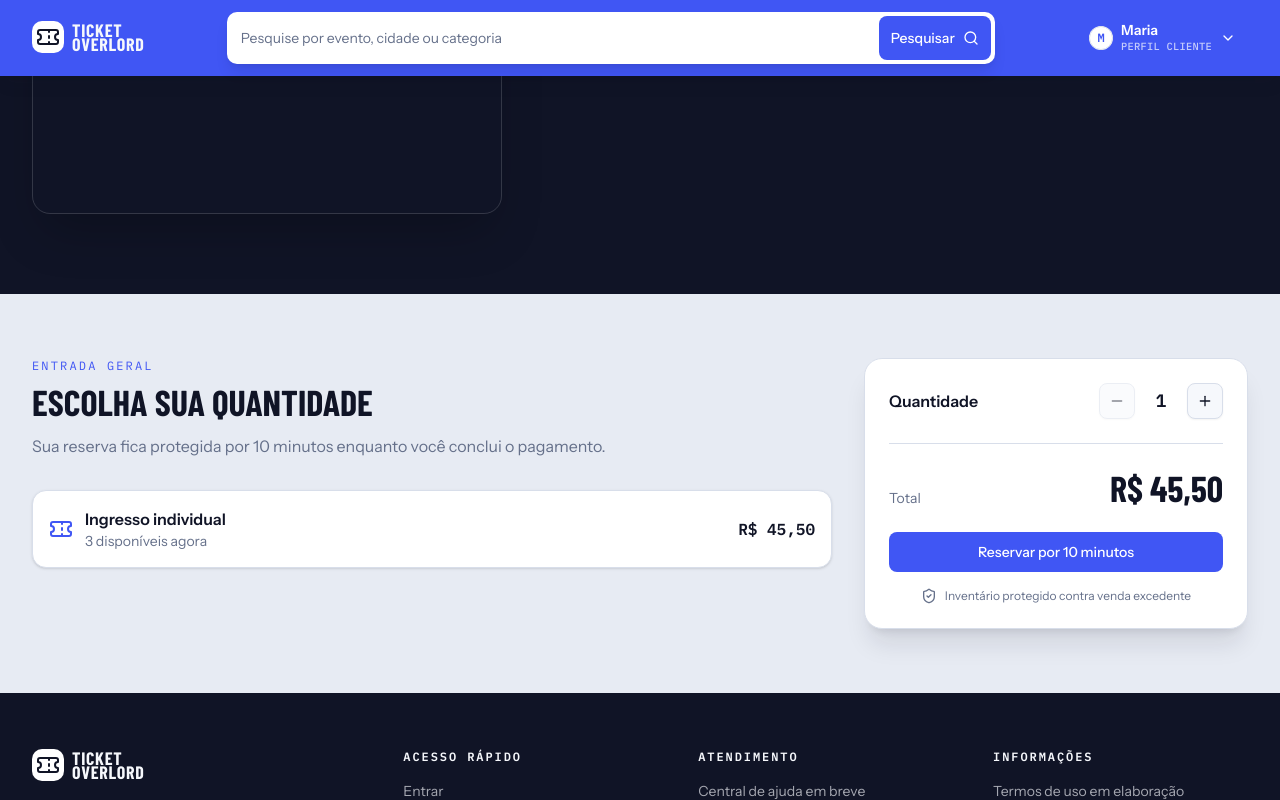
Test: EventDetailExperience › calculates the quantity total and respects current availability
(page scrolled)
Click the button named "Aumentar quantidade" at (1205, 401), box [1187,383,1223,419]
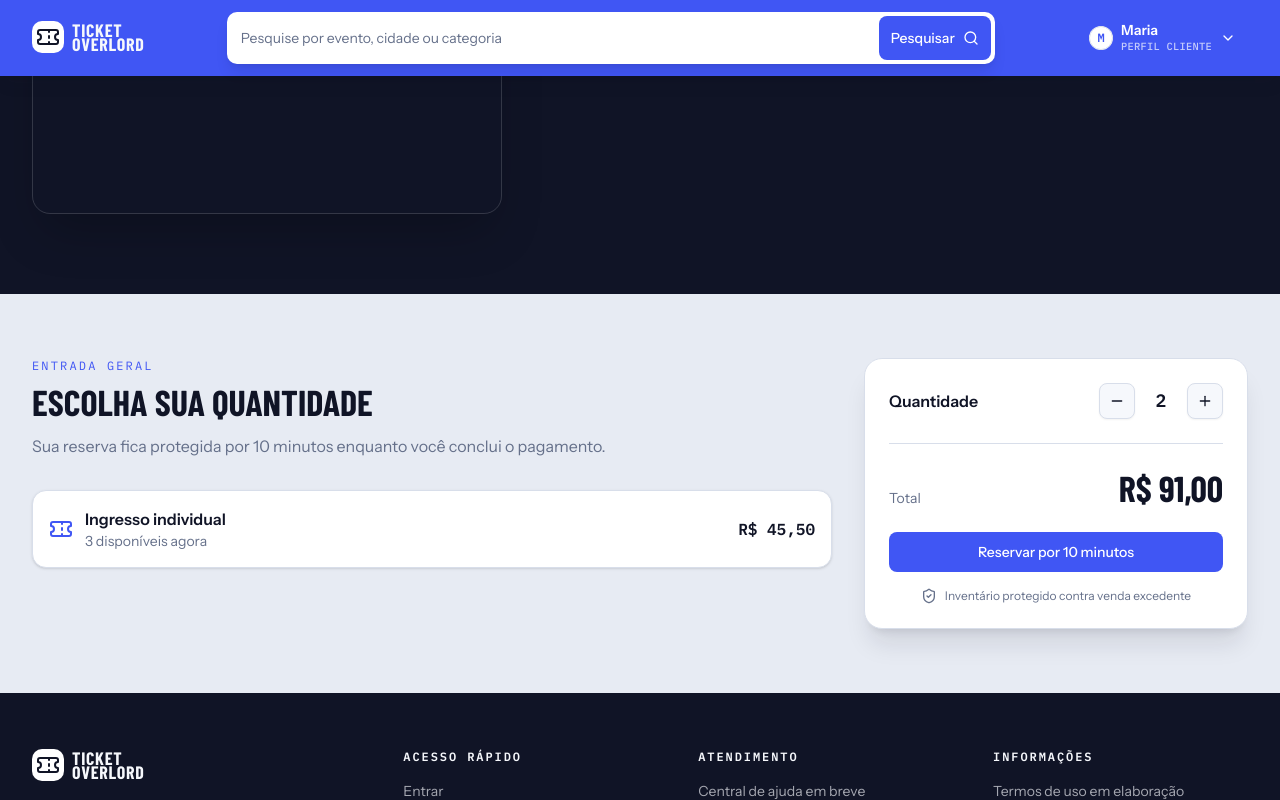
Click the button named "Aumentar quantidade" at (1205, 401), box [1187,383,1223,419]
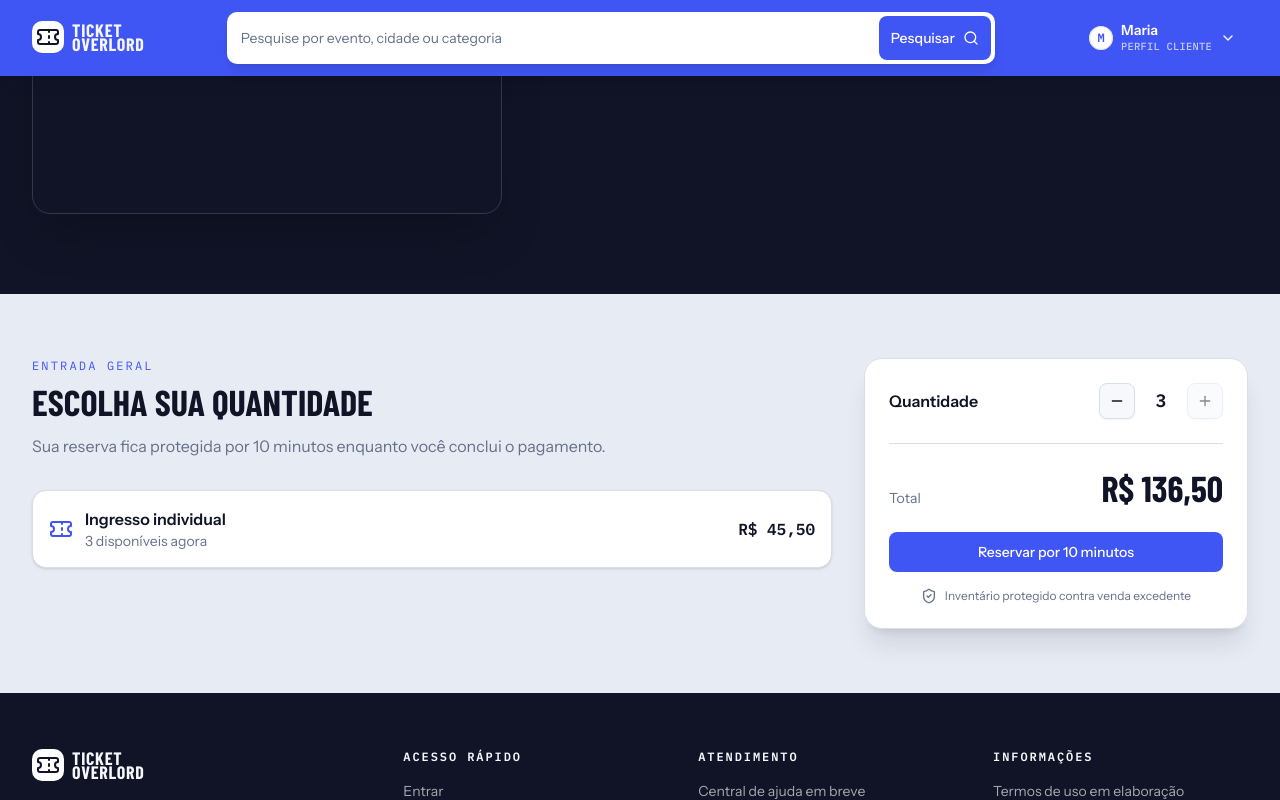
Check: the text "R$ 136,50" is shown, box [1101,468,1223,508]
Check: the button named "Aumentar quantidade" is disabled, box [1187,383,1223,419]
